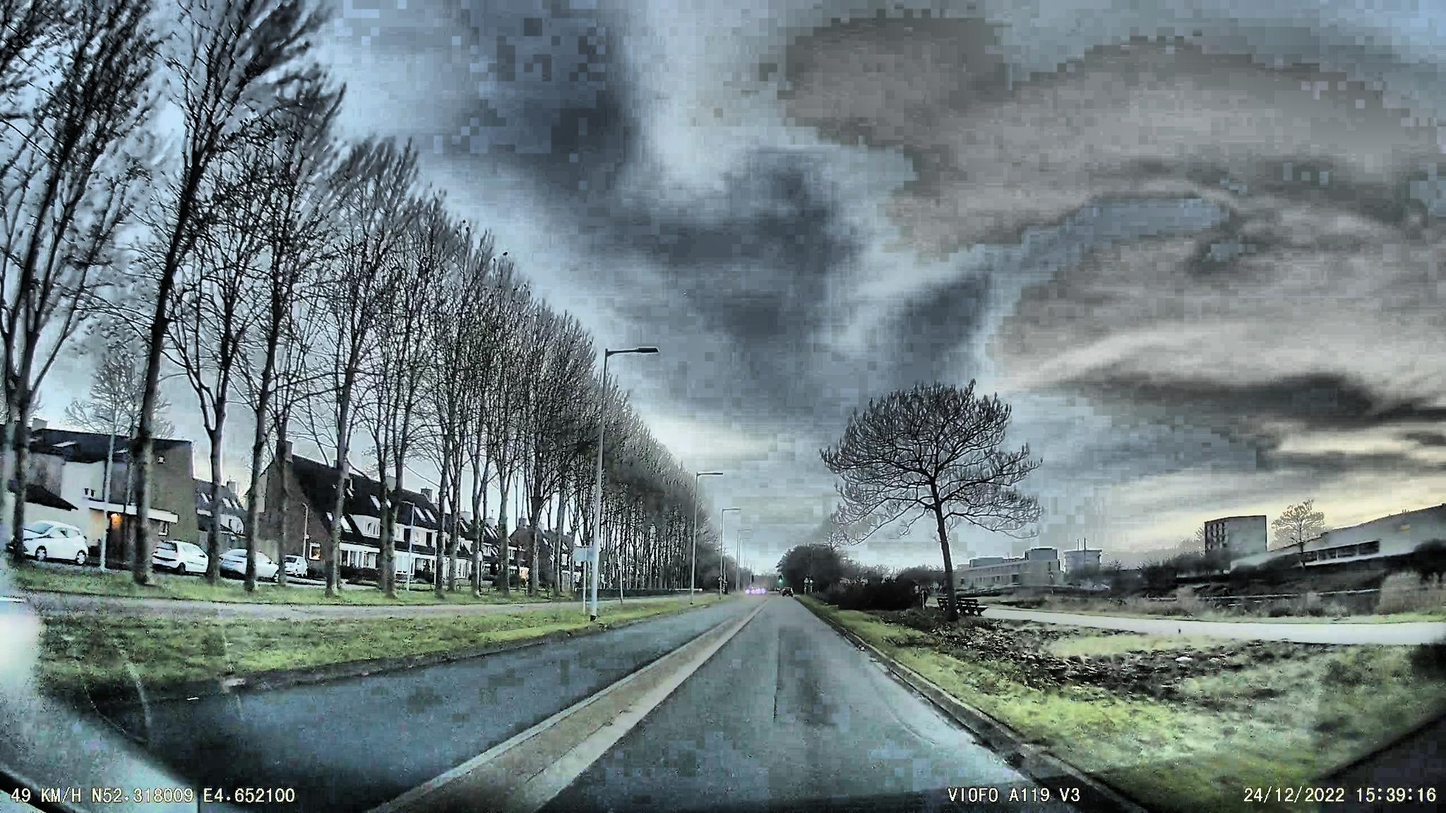Roads: (0, 598, 1141, 813)
